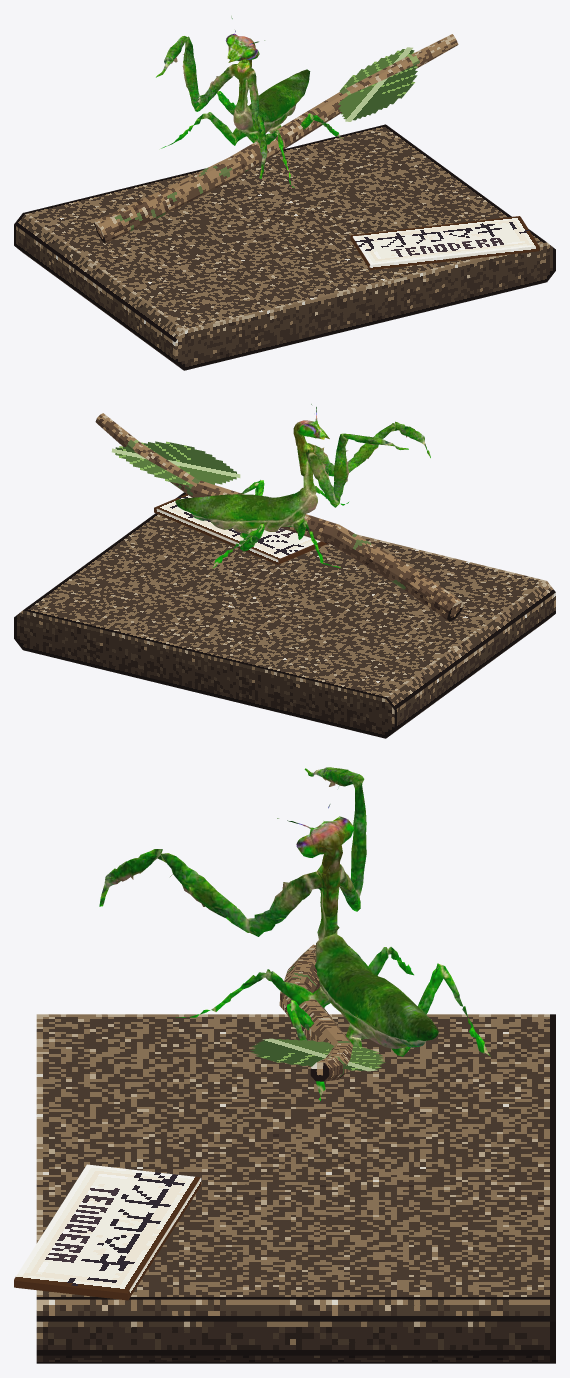
File: kamakiri.glb
3 renders of one model, top to bottom at view 1: azimuth 30°, elevation 25°; view 2: azimuth 150°, elevation 25°; view 3: azimuth 270°, elevation 25°, orthographic. The views are drawn at different scales.
Visible parts, largest first — view 1: base, model_mantis, twig, label, leaf; view 2: base, model_mantis, twig, label, leaf; view 3: base, model_mantis, label, twig, leaf.
Part boxes in pixels (left/top/right/bottom): base: left=14, top=124, right=555, bottom=370; model_mantis: left=156, top=16, right=343, bottom=187; twig: left=94, top=34, right=458, bottom=243; label: left=350, top=216, right=539, bottom=270; leaf: left=338, top=47, right=417, bottom=121; base: left=14, top=492, right=555, bottom=738; model_mantis: left=175, top=404, right=430, bottom=567; twig: left=95, top=413, right=463, bottom=621; label: left=154, top=494, right=327, bottom=564; leaf: left=111, top=441, right=240, bottom=486; base: left=36, top=1014, right=555, bottom=1363; model_mantis: left=99, top=767, right=489, bottom=1100; label: left=14, top=1164, right=201, bottom=1300; twig: left=279, top=944, right=353, bottom=1081; leaf: left=250, top=1038, right=385, bottom=1071.
Bounding box in the file's own units: 30 × 19.04 × 22.97.
Materials: 3 (3 with a texture image).
